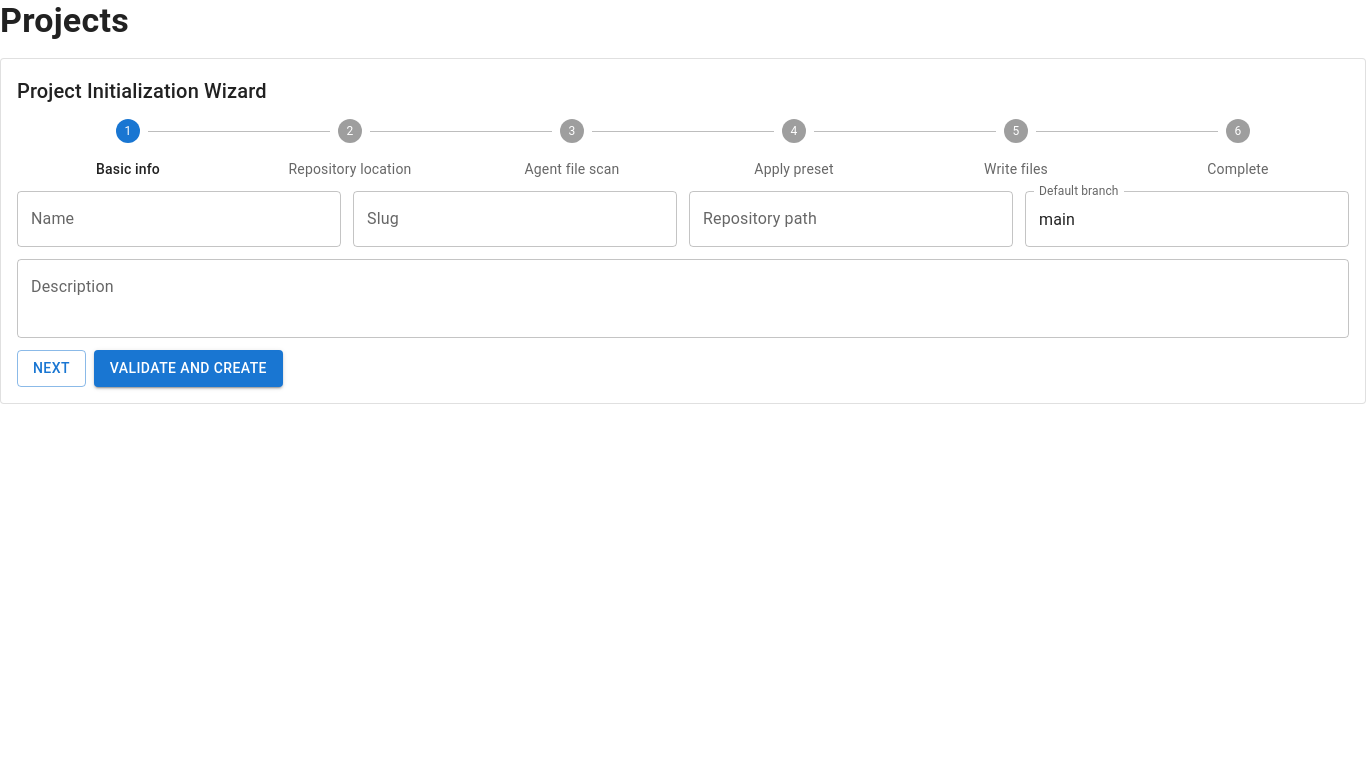
Test: ProjectsPage › asks to create a missing repository path before creating the project
This screenshot has width=1366, height=768.
Step 1. Type "Demo" into the field labelled "Name" → (179, 219), box [17,191,341,247]
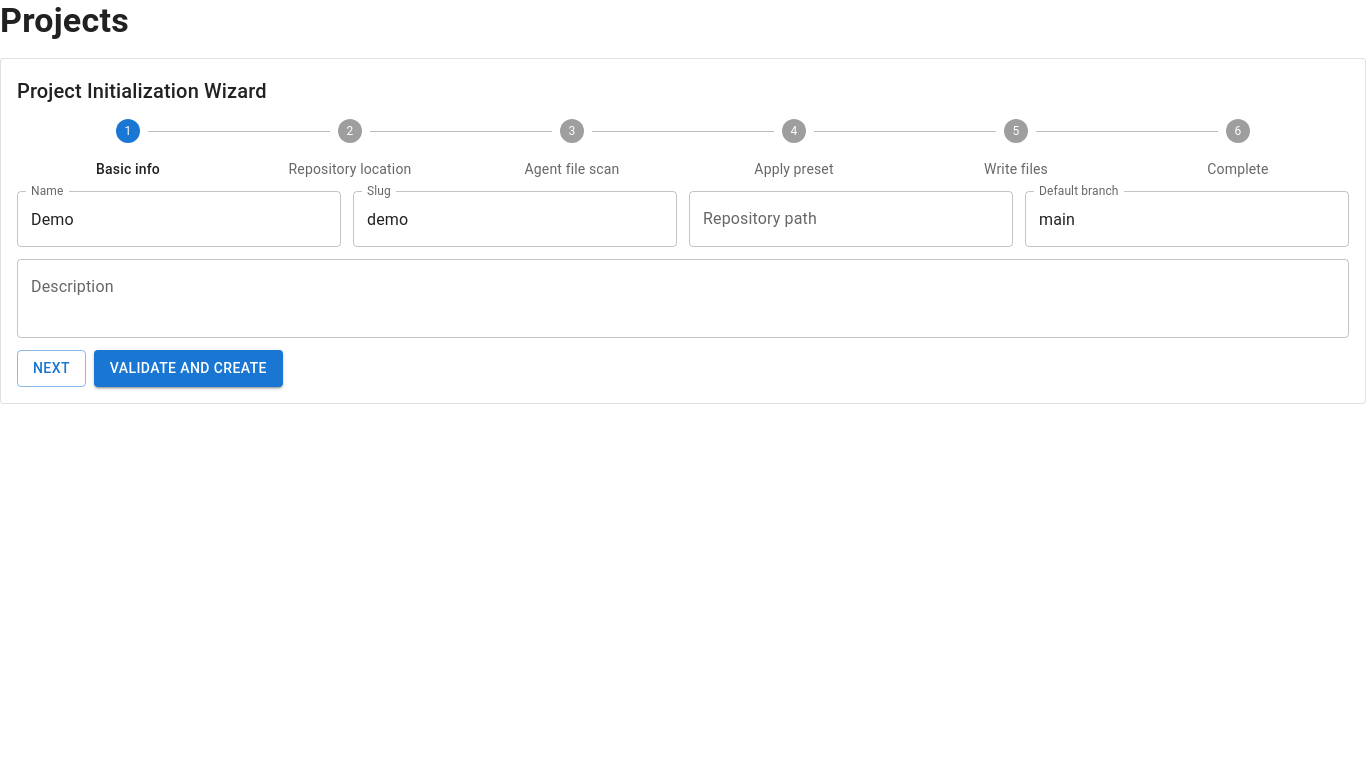
Step 2. Type "/repo/new-demo" into the field labelled "Repository path" → (851, 219), box [689,191,1013,247]
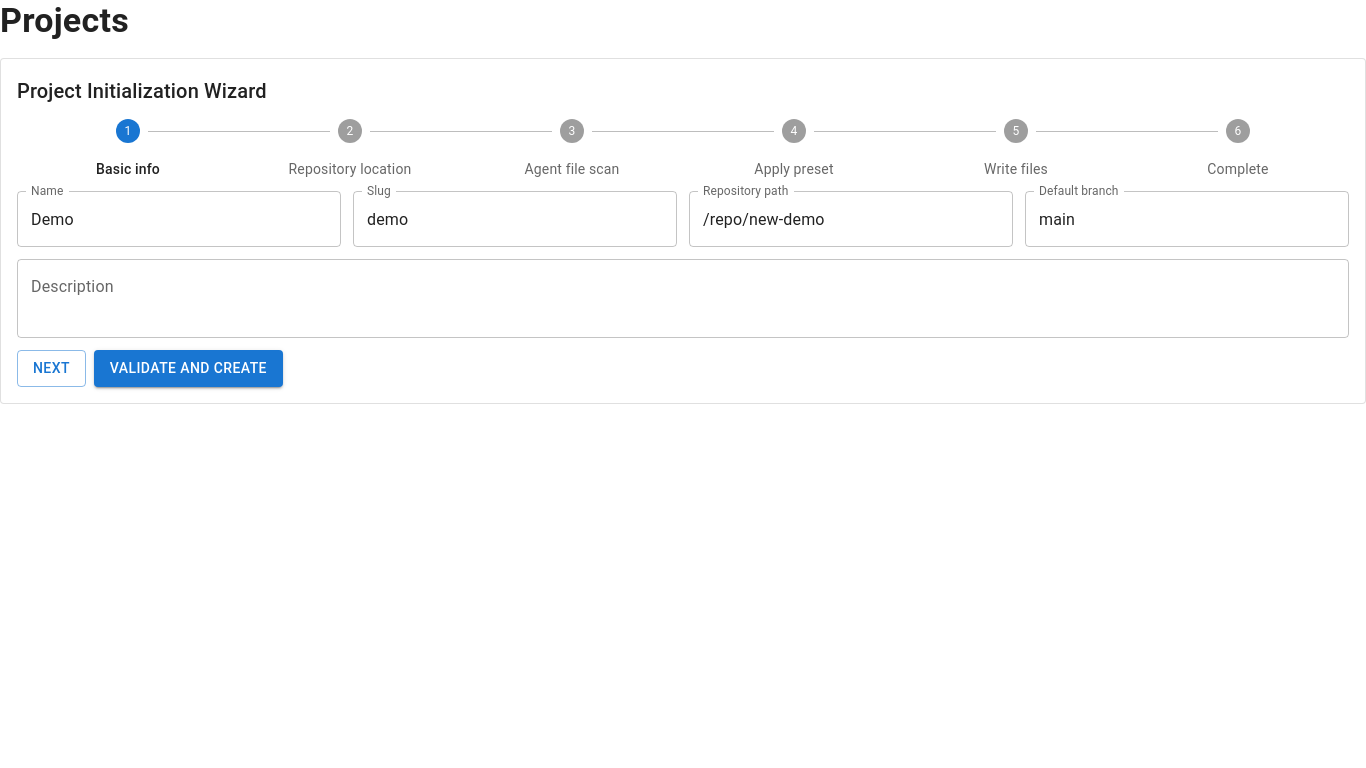
Step 3. Click the button "Validate and create" → (188, 368), box [94,350,283,386]
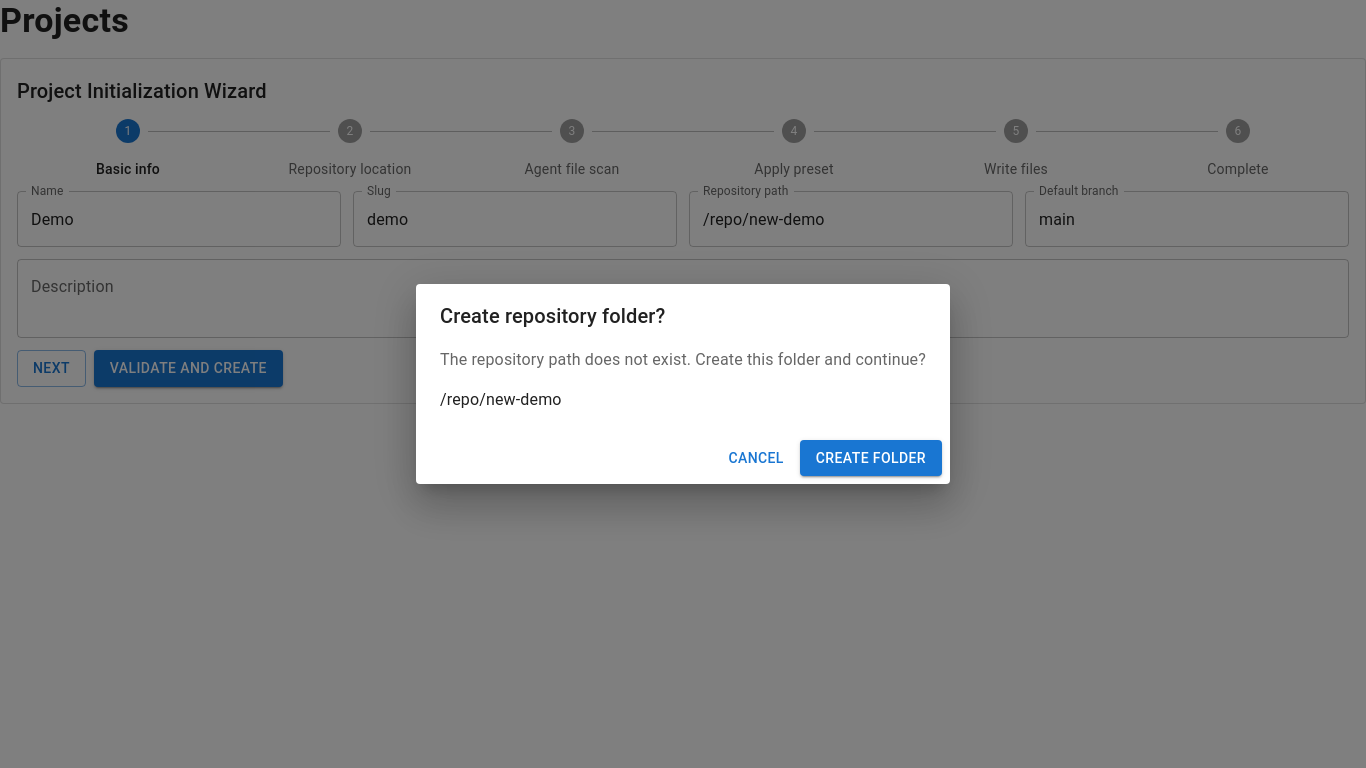
Expected: the heading "Create repository folder?" is shown, [440,304,665,328]
Expected: the text "/repo/new-demo" is shown, [440,390,562,409]
Step 4. Click the button "Create folder" → (871, 458), box [800,440,942,476]
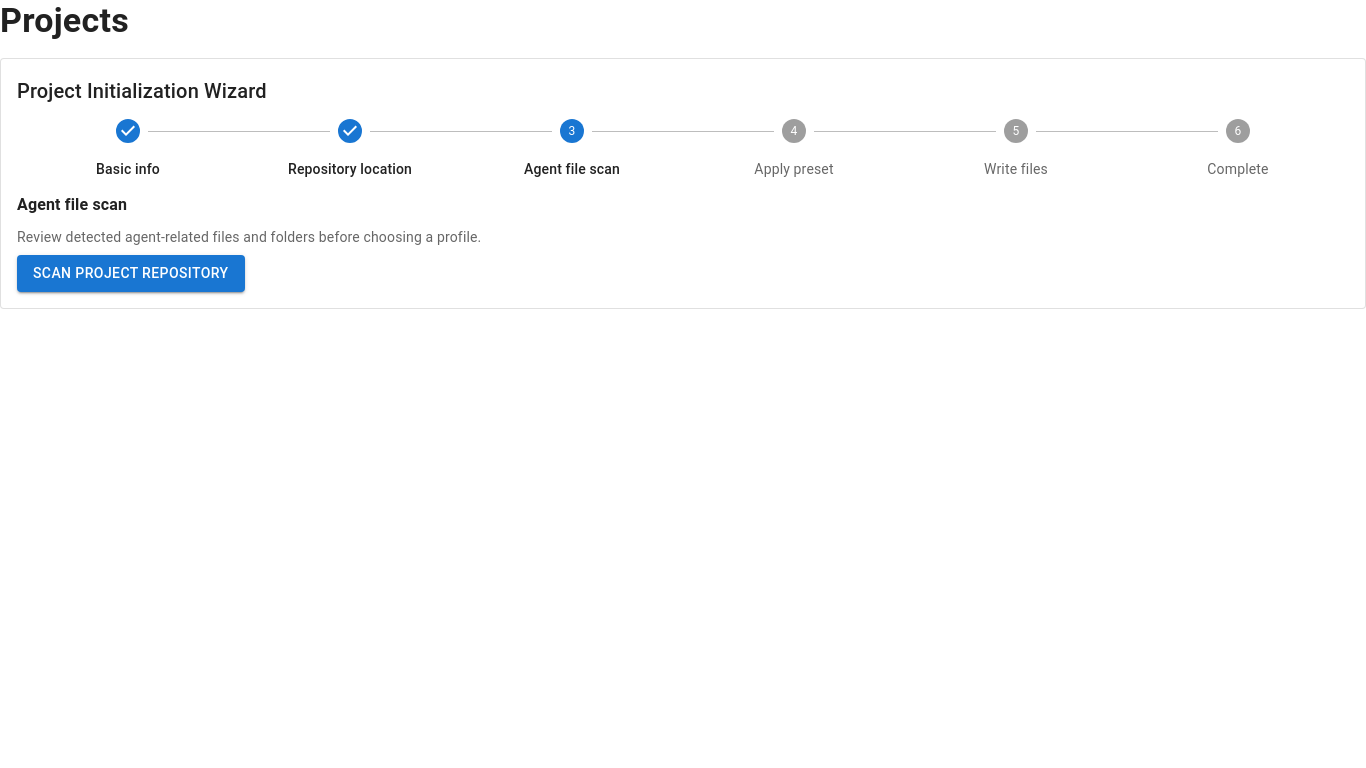
Expected: the button "Scan project repository" is shown, [17,255,244,292]
